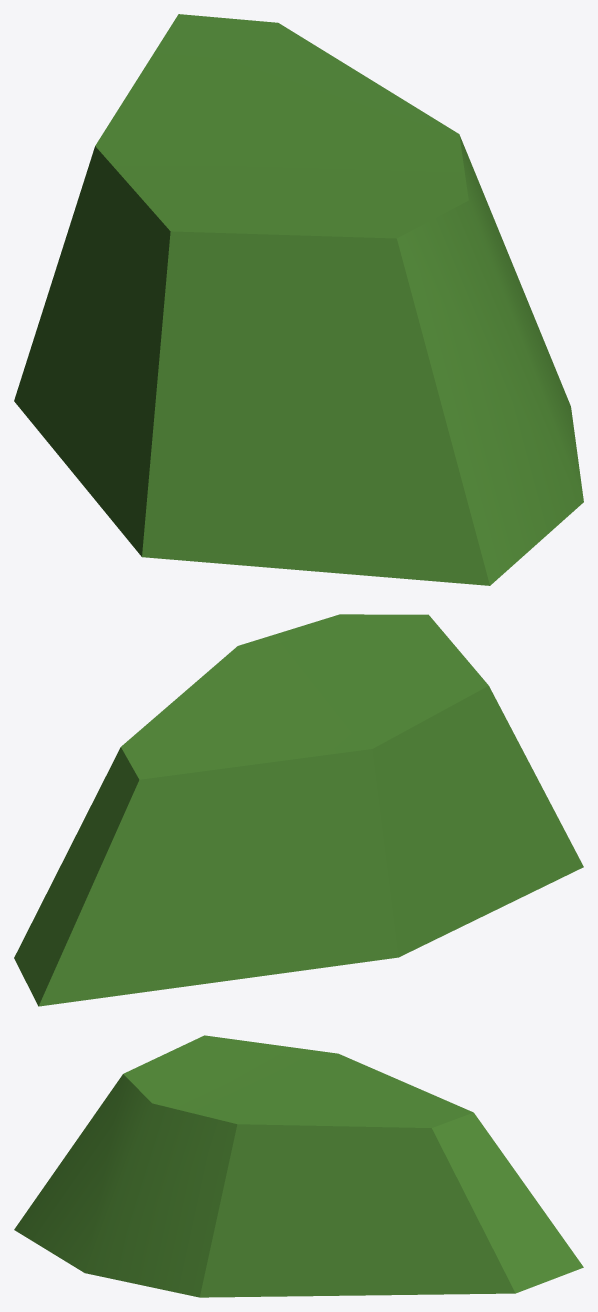
File: grass_layer_crumb_spec_E.fbx
3 renders of one model, top to bottom at view 1: azimuth 30°, elevation 25°; view 2: azimuth 150°, elevation 25°; view 3: azimuth 270°, elevation 25°, orthographic. The views are drawn at different scales.
Parts seen in each view (by area): view 1: grass_layer_crumb_spec_E; view 2: grass_layer_crumb_spec_E; view 3: grass_layer_crumb_spec_E.
Part boxes in pixels (box(x1,y1,x2,y2)): grass_layer_crumb_spec_E: box(14, 14, 583, 585); grass_layer_crumb_spec_E: box(14, 614, 583, 1006); grass_layer_crumb_spec_E: box(14, 1035, 583, 1297).
Size of the model in its own units: 25.89 by 14.35 by 47.28.
